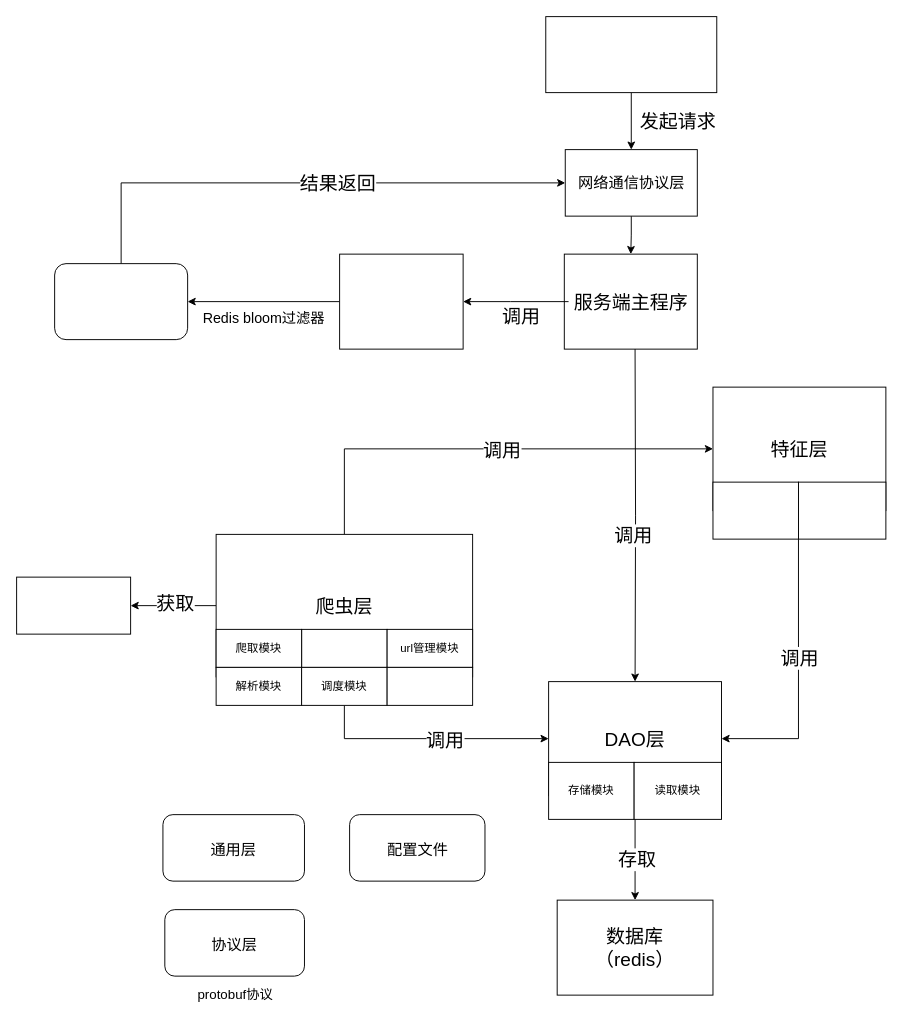
This 903x1021 diagram has some shape labels left out. The shapes that lost their labels are listed below. From the top down, each one's centre as x and y in pixels, then its label:
(x=631, y=54): Client前端
(x=121, y=301): 用户历史去重
(x=401, y=301): 排序层
(x=755, y=510): 特征上报
(x=842, y=510): 特征获取API
(x=73, y=605): 外部信息
(x=344, y=647): 初始化模块
